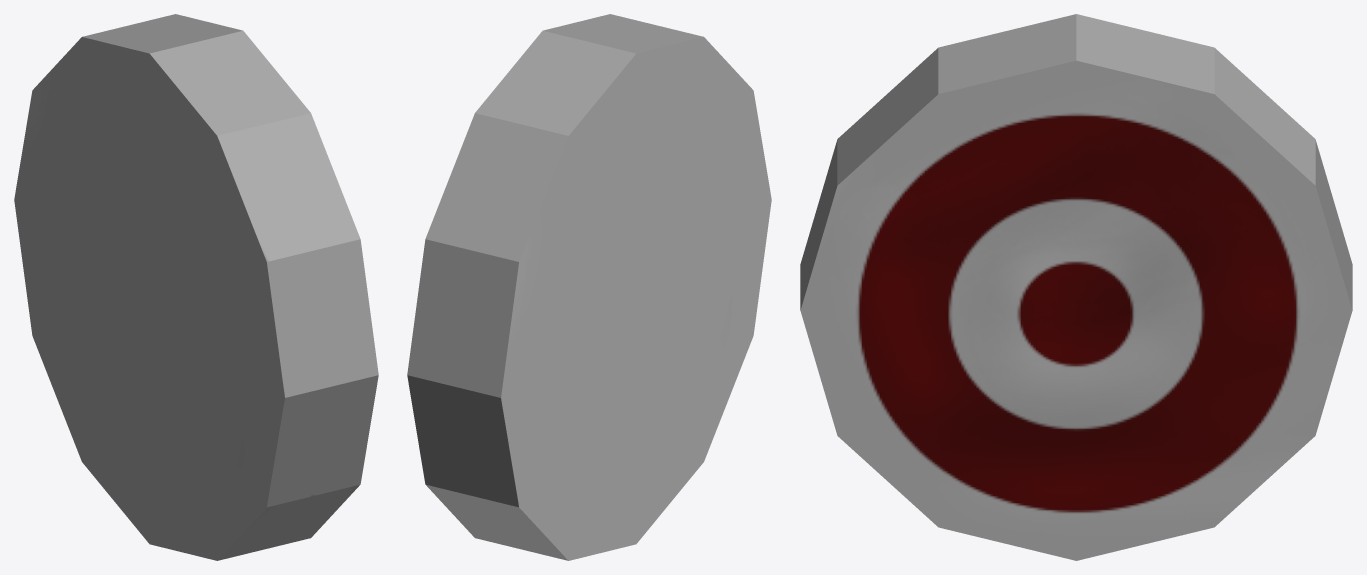
Rendered from target.fbx.
The picture shows the model from 3 angles, left to right: view 1: azimuth 30°, elevation 25°; view 2: azimuth 150°, elevation 25°; view 3: azimuth 270°, elevation 25°; orthographic projection.
Visible parts, largest first — view 1: pCylinder1; view 2: pCylinder1; view 3: pCylinder1.
Part boxes in pixels (x1,y1,x2,y2): pCylinder1: [14, 14, 378, 560]; pCylinder1: [407, 14, 771, 560]; pCylinder1: [800, 14, 1352, 560].
Bounding box in the file's own units: 4 × 20 × 20.
